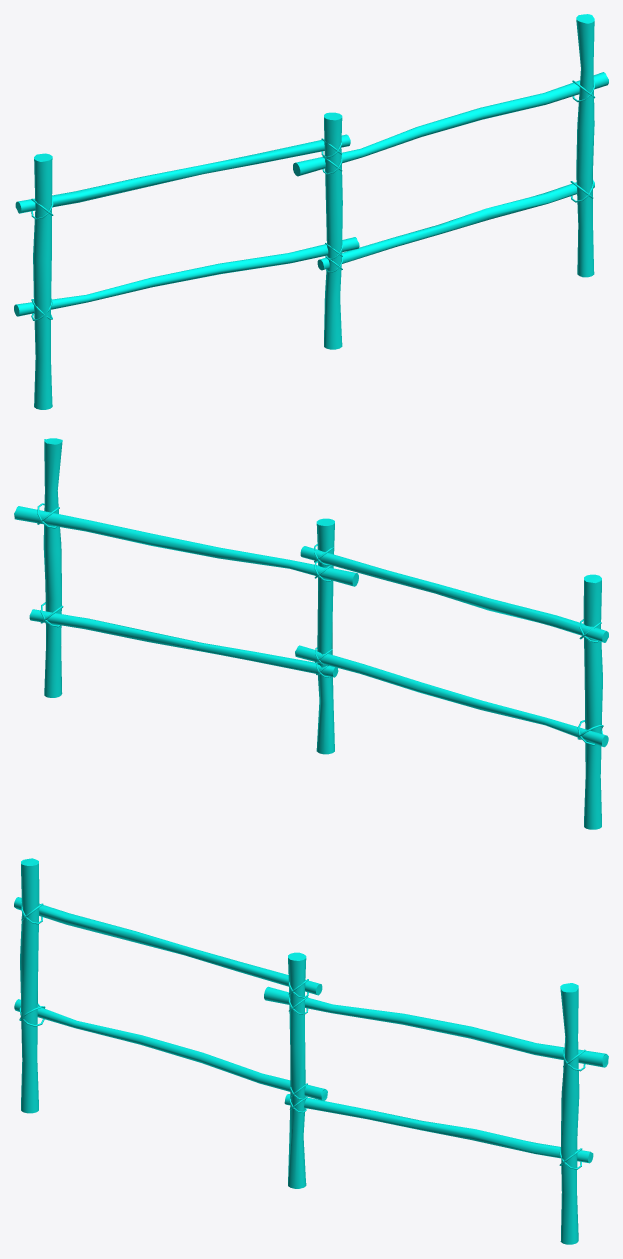
Rendered from barriere low new.fbx.
The picture shows the model from 3 angles, top to bottom: view 1: azimuth 30°, elevation 25°; view 2: azimuth 150°, elevation 25°; view 3: azimuth 330°, elevation 25°; orthographic projection.
Parts seen in each view (by area): view 1: horizBarriere_low, verticalbarrier_low, corde_low; view 2: horizBarriere_low, verticalbarrier_low, corde_low; view 3: horizBarriere_low, verticalbarrier_low, corde_low.
Part boxes in pixels (x1,y1,x2,y2): horizBarriere_low: [14, 72, 608, 316]; verticalbarrier_low: [33, 14, 594, 409]; corde_low: [31, 79, 595, 320]; horizBarriere_low: [14, 506, 608, 747]; verticalbarrier_low: [43, 438, 602, 829]; corde_low: [37, 503, 603, 745]; horizBarriere_low: [14, 897, 608, 1163]; verticalbarrier_low: [20, 858, 579, 1244]; corde_low: [19, 903, 585, 1169].
Bounding box in the file's own units: 286 × 118 × 23.7.
